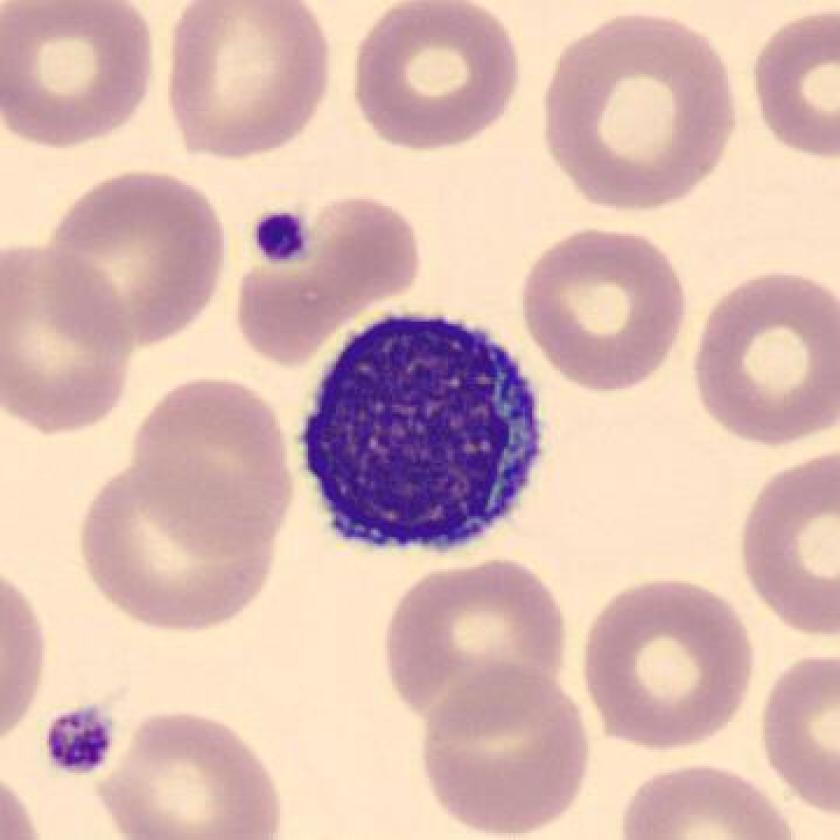lymphocyte: (288, 302, 561, 570)
